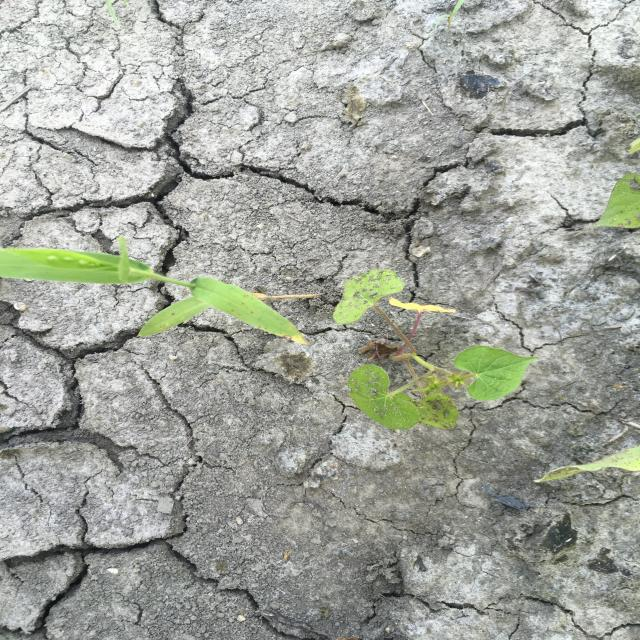MorningGlory: (330, 268, 542, 431)
